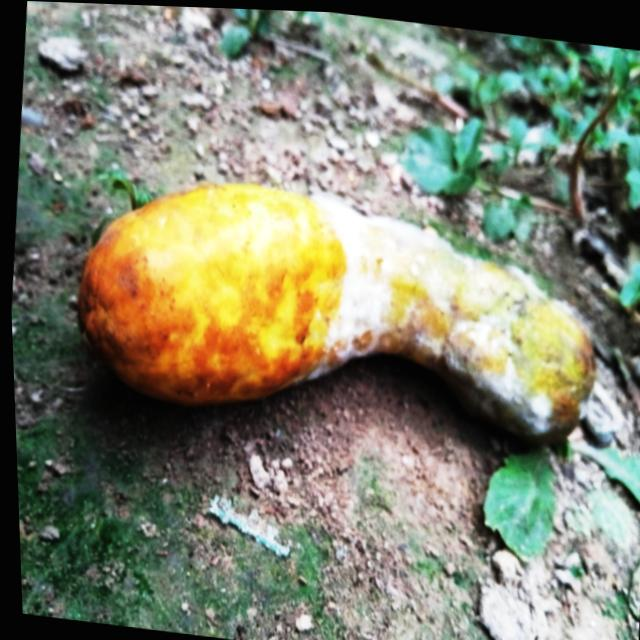Pythium-Fruit-Rot: (289, 181, 569, 436)
